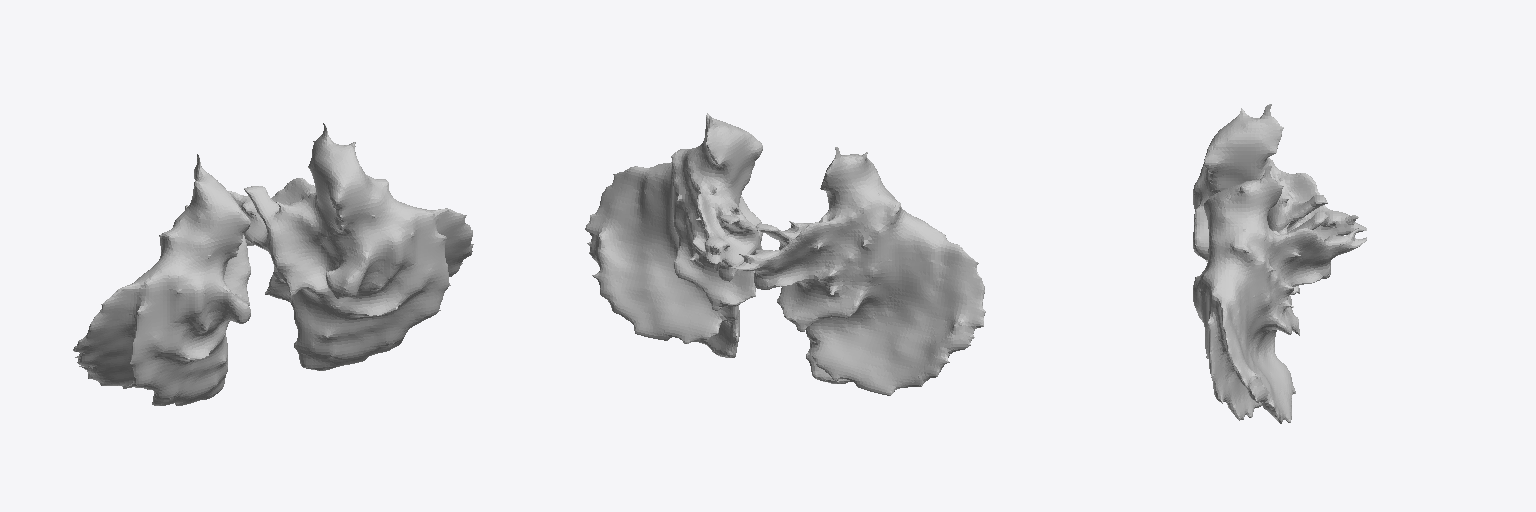
The model's file is Cerebellum-White-Matter.obj.
3 views of the same model, side by side, from view 1: azimuth 30°, elevation 25°; view 2: azimuth 150°, elevation 25°; view 3: azimuth 270°, elevation 25° (orthographic).
Visible parts, largest first — view 1: Cerebellum-White-Matter_Left-Cerebellum-White-Matter.001; view 2: Cerebellum-White-Matter_Left-Cerebellum-White-Matter.001; view 3: Cerebellum-White-Matter_Left-Cerebellum-White-Matter.001.
Part boxes in pixels (bbox=[...]): Cerebellum-White-Matter_Left-Cerebellum-White-Matter.001: bbox=[73, 123, 473, 405]; Cerebellum-White-Matter_Left-Cerebellum-White-Matter.001: bbox=[585, 113, 985, 395]; Cerebellum-White-Matter_Left-Cerebellum-White-Matter.001: bbox=[1193, 104, 1366, 423].
Bounding box in the file's own units: 347 × 202 × 132.